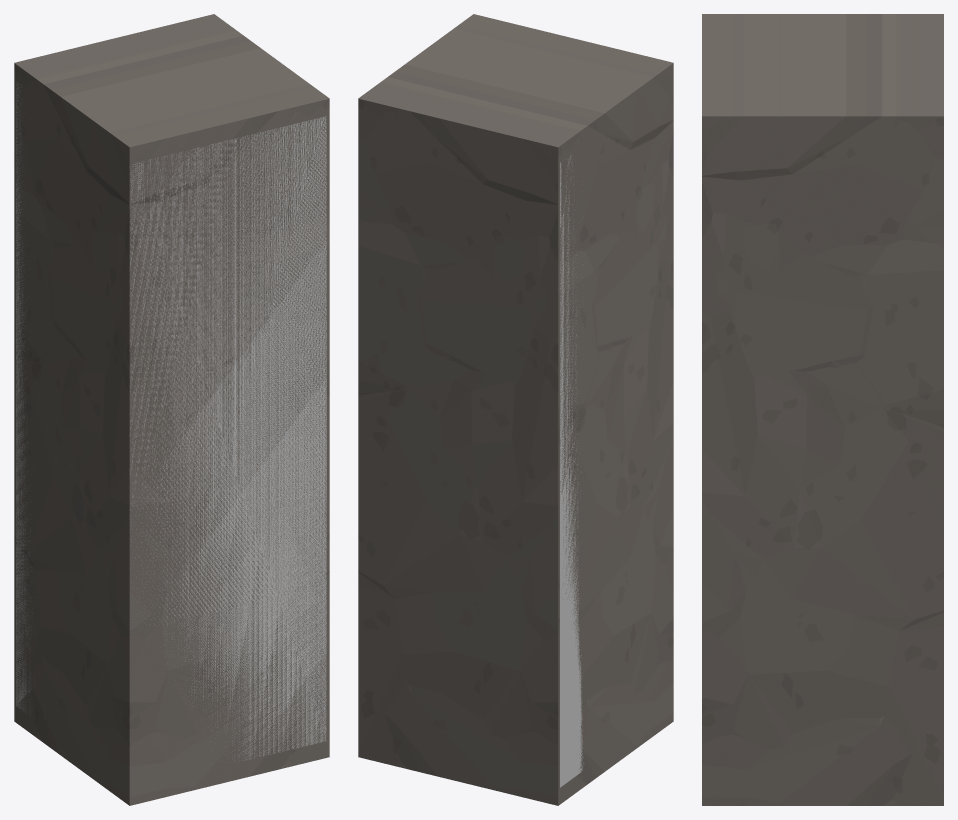
File: SM_Bld_House_Base_Corner_02.fbx
3 renders of one model, left to right at view 1: azimuth 30°, elevation 25°; view 2: azimuth 150°, elevation 25°; view 3: azimuth 270°, elevation 25°, orthographic. The views are drawn at different scales.
Visible parts, largest first — view 1: SM_Bld_House_Base_Corner_02, SM_Bld_House_Base_Corner_02_ConvexHulls; view 2: SM_Bld_House_Base_Corner_02, SM_Bld_House_Base_Corner_02_ConvexHulls; view 3: SM_Bld_House_Base_Corner_02.
Boxes of the visible parts, box(x1,y1,x2,y2) form: SM_Bld_House_Base_Corner_02: box(14, 14, 329, 805); SM_Bld_House_Base_Corner_02_ConvexHulls: box(16, 81, 326, 761); SM_Bld_House_Base_Corner_02: box(358, 14, 673, 805); SM_Bld_House_Base_Corner_02_ConvexHulls: box(560, 155, 584, 787); SM_Bld_House_Base_Corner_02: box(702, 14, 943, 805).
Bounding box in the file's own units: 95.39 × 95.39 × 300.
2 materials, 1 textured.
